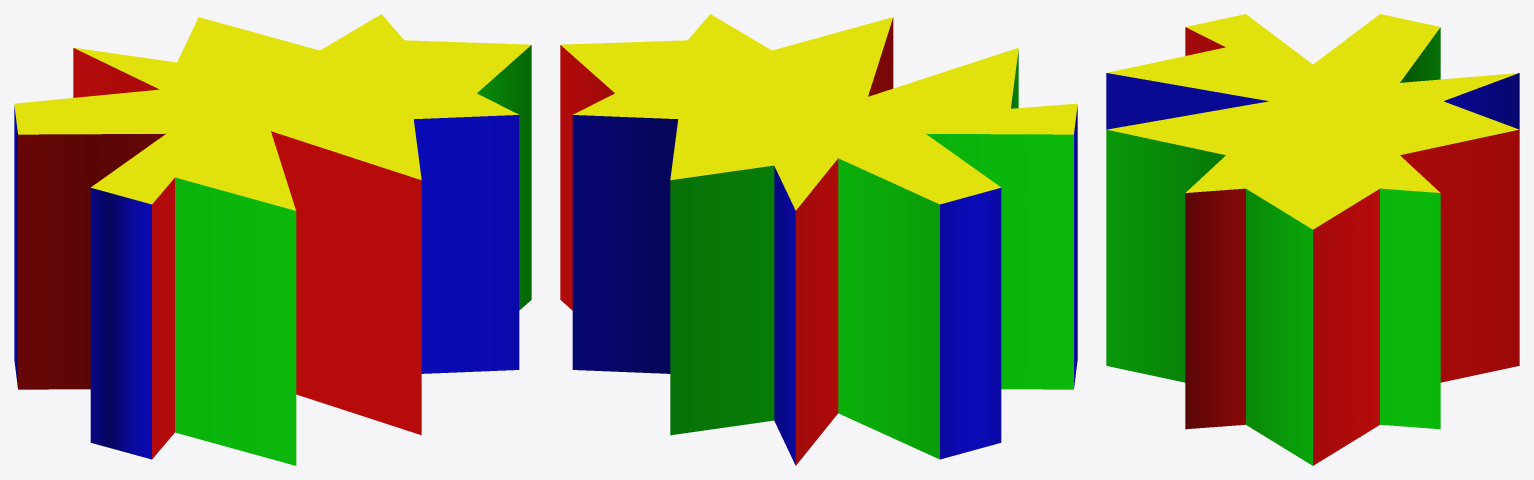
File: 20prism_final.DAE
3 views of the same model, side by side, from view 1: azimuth 30°, elevation 25°; view 2: azimuth 150°, elevation 25°; view 3: azimuth 270°, elevation 25° (orthographic). The views are drawn at different scales.
Parts seen in each view (by area): view 1: Cylinder002; view 2: Cylinder002; view 3: Cylinder002.
Part boxes in pixels (bbox=[...]): Cylinder002: bbox=[14, 14, 531, 465]; Cylinder002: bbox=[560, 14, 1077, 465]; Cylinder002: bbox=[1106, 14, 1519, 465].
Bounding box in the file's own units: 588 × 476 × 300.
